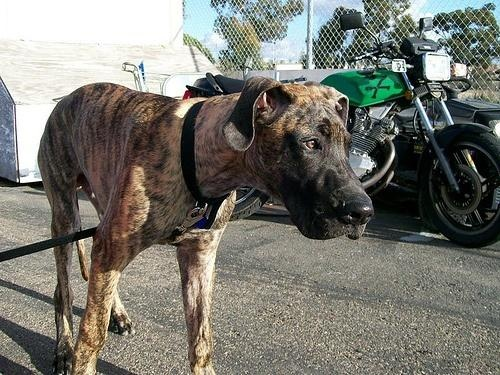dog: (43, 76, 376, 374)
motorbike: (119, 11, 500, 250)
